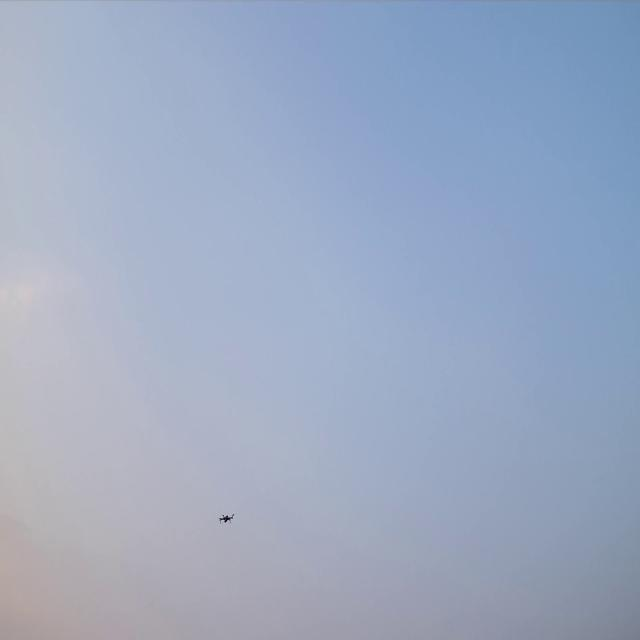UAV: (217, 512, 235, 526)
